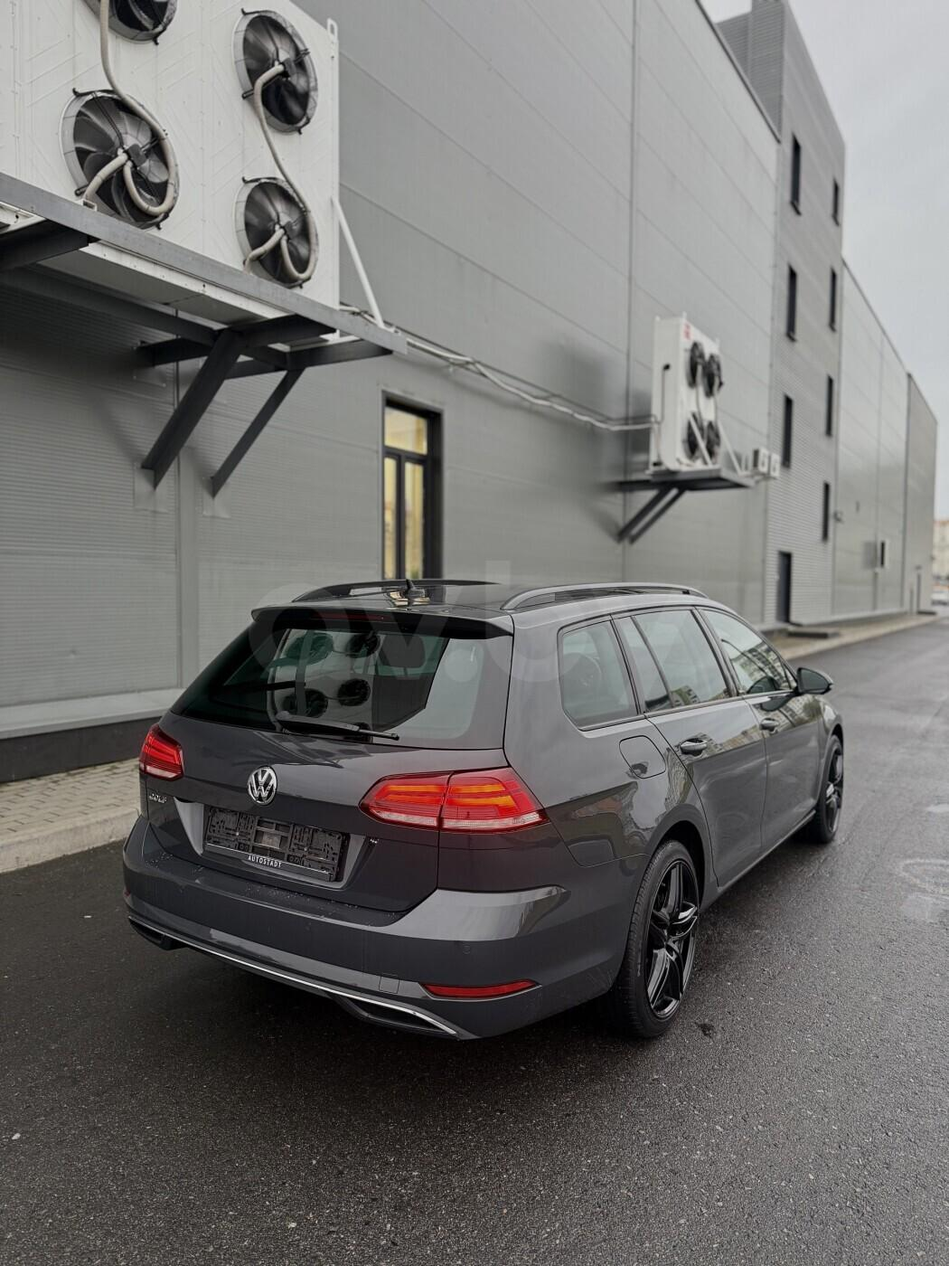Golf_2017-2021: (140, 572, 843, 1045)
